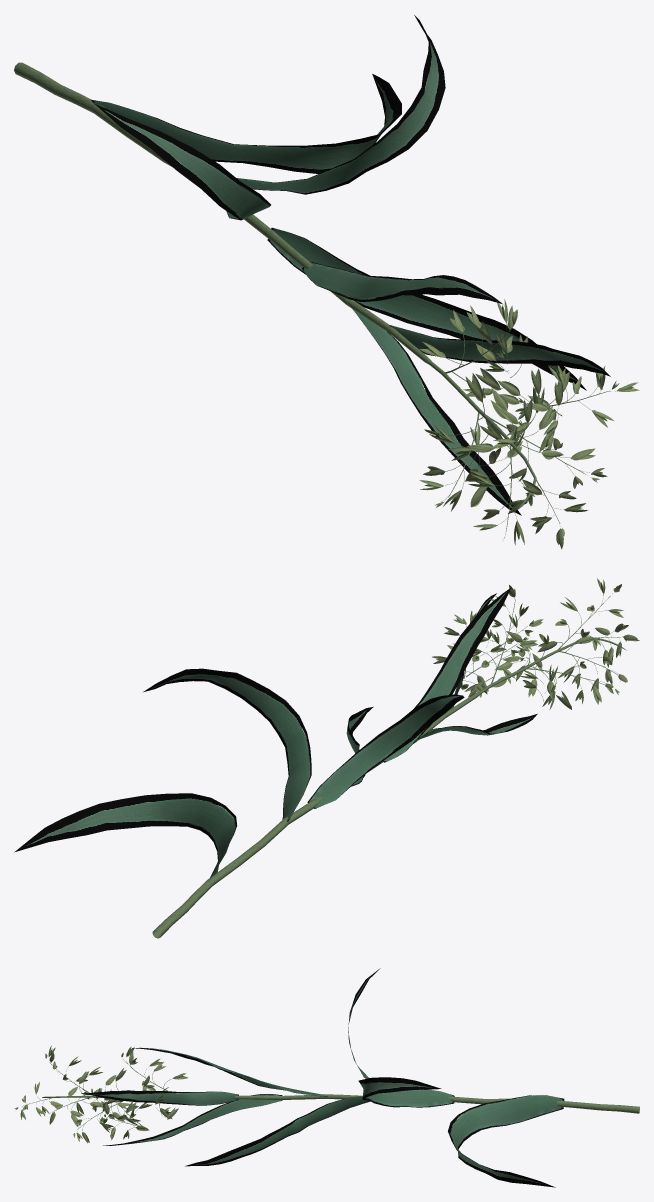
File: oat_grass_single.obj
3 renders of one model, top to bottom at view 1: azimuth 30°, elevation 25°; view 2: azimuth 150°, elevation 25°; view 3: azimuth 270°, elevation 25°, orthographic. The views are drawn at different scales.
Bounding box in the file's own units: 0.4189 × 0.2335 × 0.9684.
Materials: 4 (4 with a texture image).
